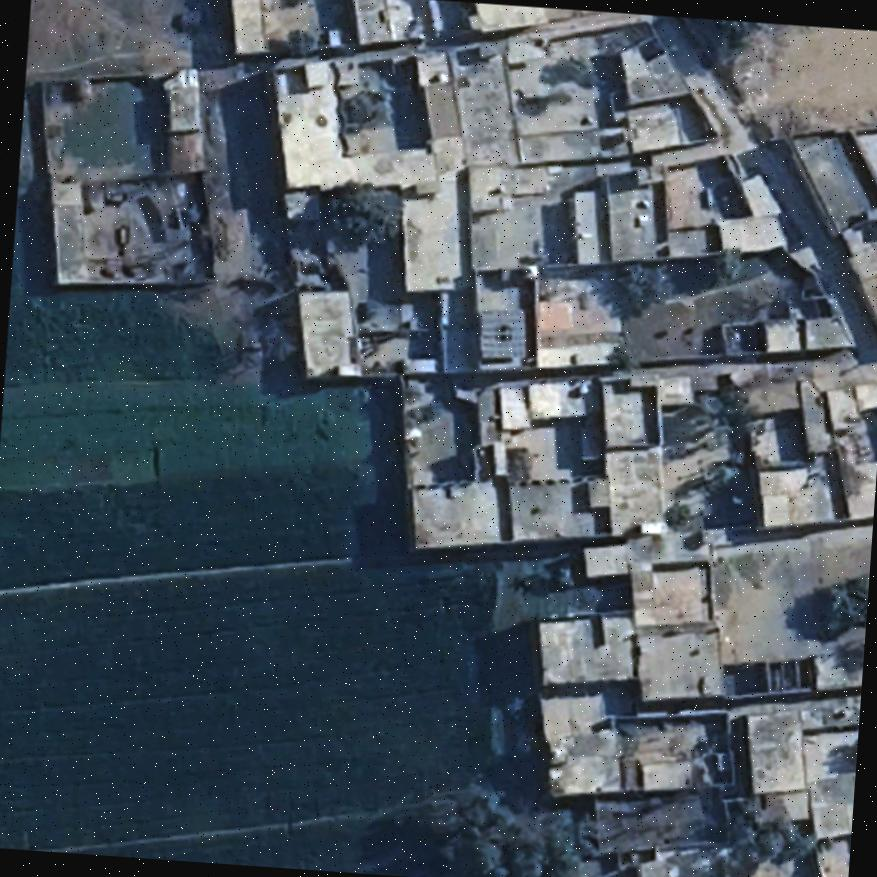Solarpanel: (475, 306, 528, 362)
